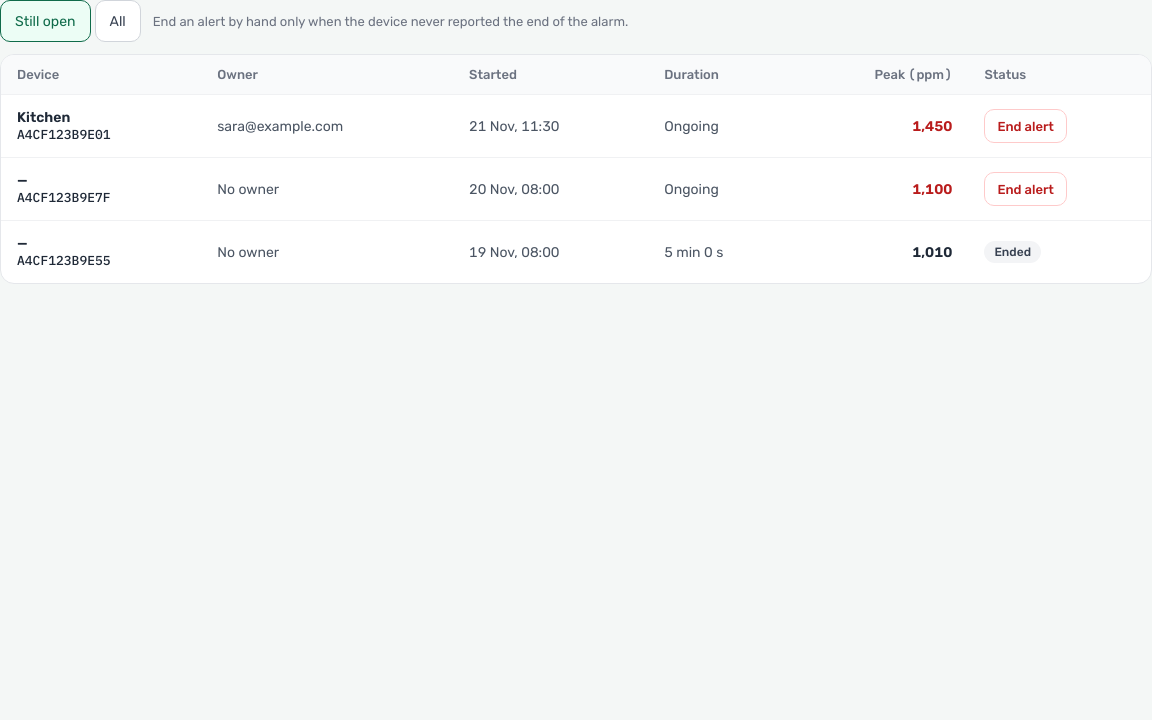
Test: AdminAlerts › asks before ending an alert; cancel goes back
Click the button "End alert" in the row of "A4CF123B9E7F" at (1026, 189), box [984,172,1067,206]
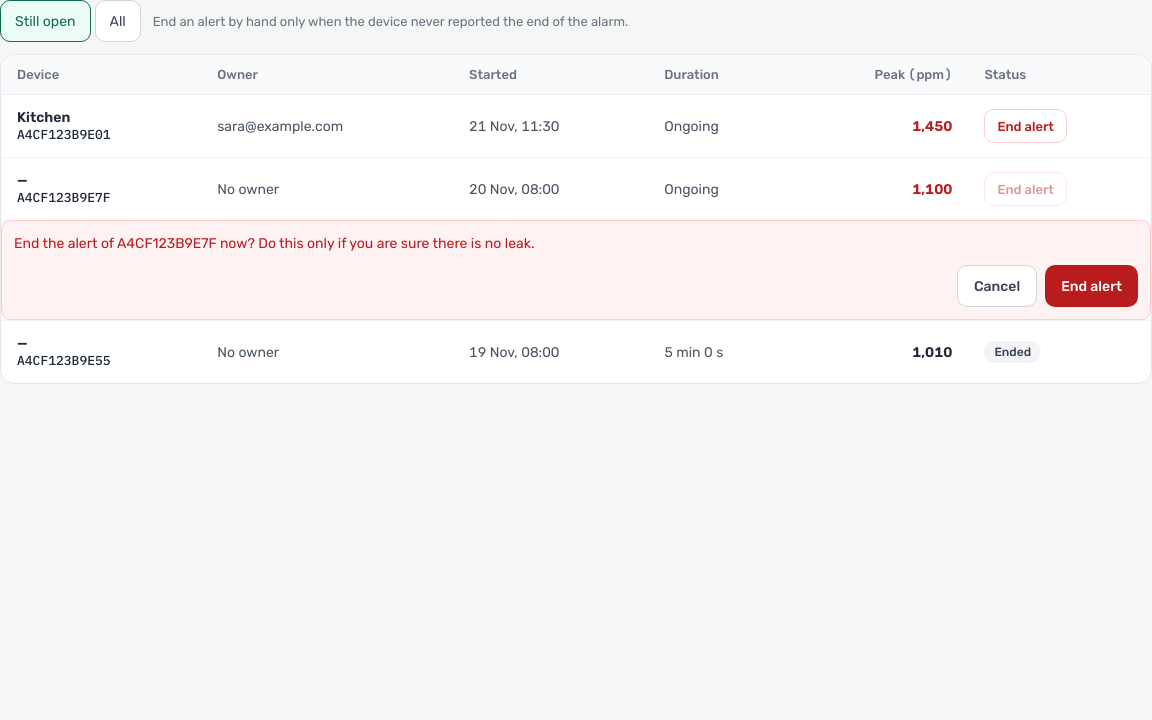
Click the button "Cancel" at (997, 286), box [957,265,1037,307]
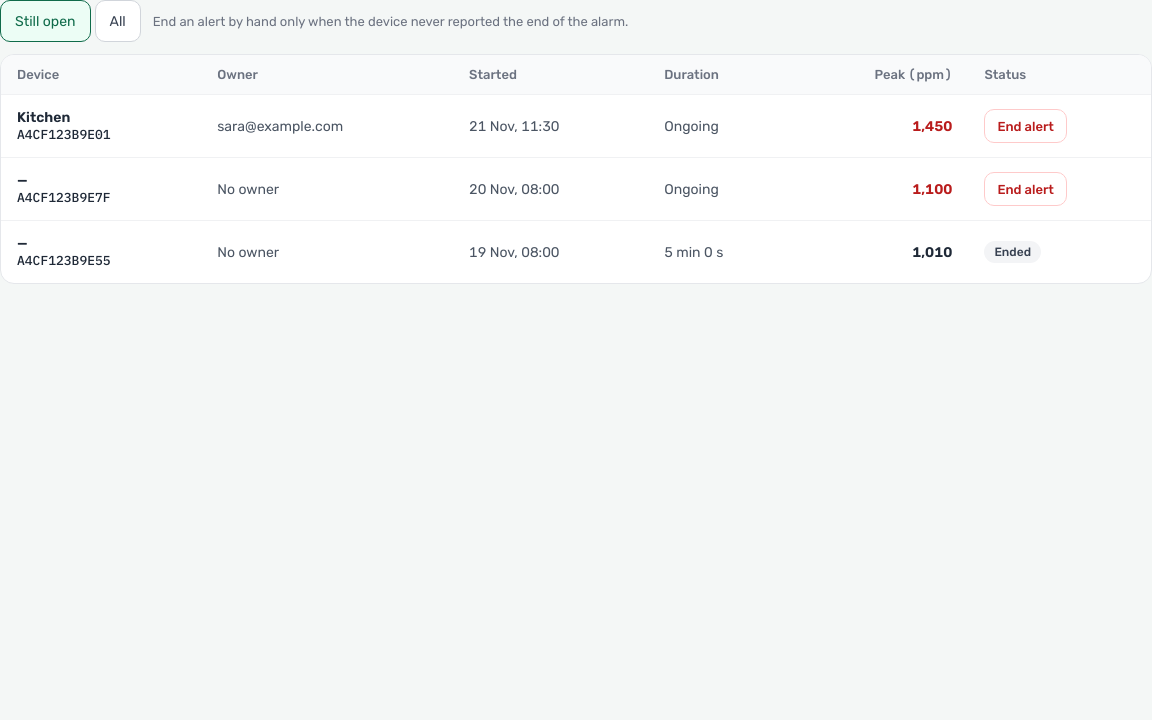
Expected: the dialog is gone
